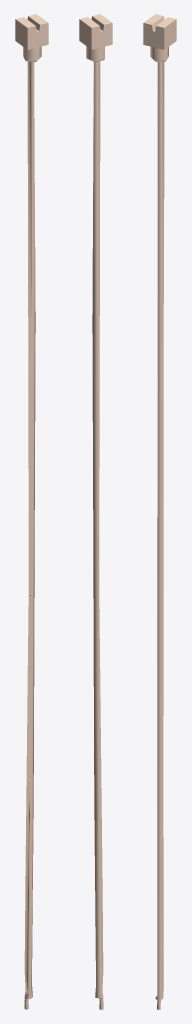
The model's file is Ressort fil Marteaux Q.dessus_Heures.obj.
3 views of the same model, side by side, from view 1: azimuth 30°, elevation 25°; view 2: azimuth 210°, elevation 25°; view 3: azimuth 330°, elevation 25° (orthographic).
Parts seen in each view (by area): view 1: Face_3, Face_10, Face_9, Face_7; view 2: Face_3, Face_12, Face_11, Face_7; view 3: Face_3, Face_10, Face_11, Face_7.
Part boxes in pixels (left/top/right/bottom): Face_3: left=24, top=61, right=35, bottom=999; Face_10: left=27, top=23, right=48, bottom=49; Face_9: left=15, top=19, right=27, bottom=49; Face_7: left=23, top=46, right=41, bottom=60; Face_3: left=92, top=61, right=103, bottom=998; Face_12: left=91, top=23, right=112, bottom=49; Face_11: left=79, top=19, right=91, bottom=49; Face_7: left=86, top=46, right=104, bottom=61; Face_3: left=155, top=61, right=164, bottom=999; Face_10: left=143, top=23, right=164, bottom=49; Face_11: left=164, top=19, right=176, bottom=49; Face_7: left=150, top=46, right=168, bottom=60.
Size of the model in its own units: 0.0055 by 0.248 by 0.0055.
